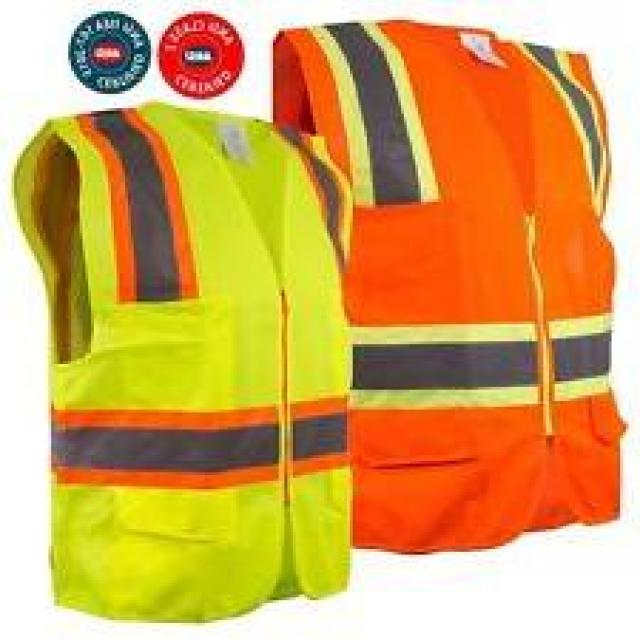Reflective-Jacket: (267, 15, 636, 558), (1, 84, 369, 627)
